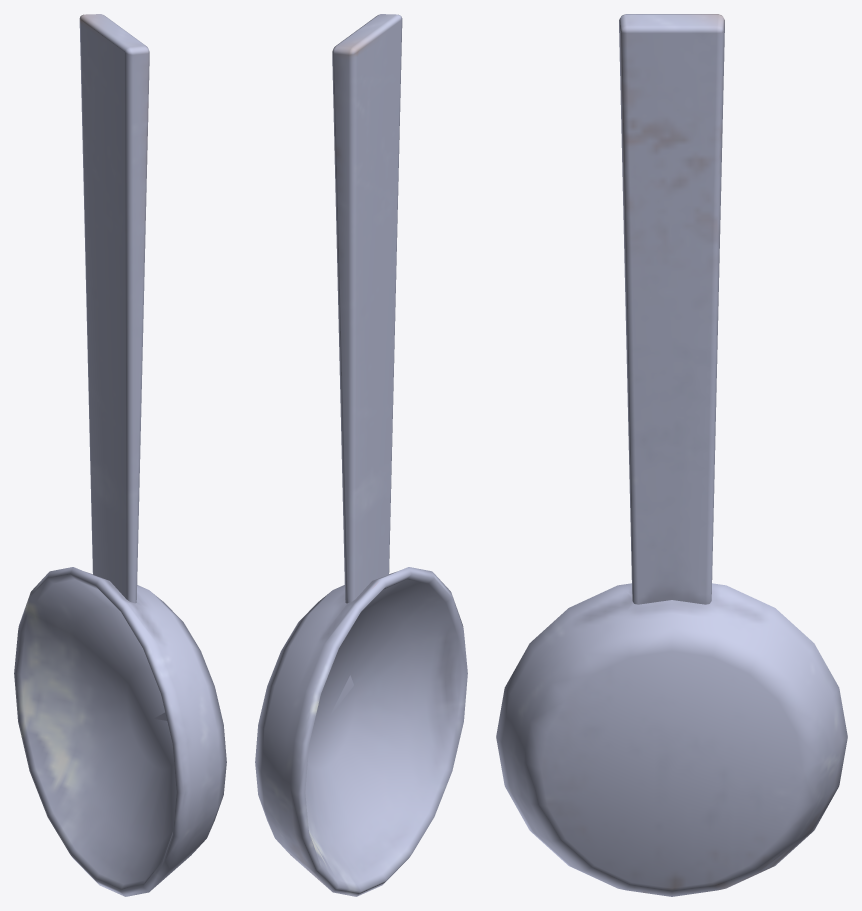
The model's file is SM_Ladel02.fbx.
3 views of the same model, side by side, from view 1: azimuth 30°, elevation 25°; view 2: azimuth 150°, elevation 25°; view 3: azimuth 270°, elevation 25° (orthographic). The views are drawn at different scales.
Visible parts, largest first — view 1: SM_Ladel02_LOD0; view 2: SM_Ladel02_LOD0; view 3: SM_Ladel02_LOD0.
Part boxes in pixels (left/top/right/bottom): SM_Ladel02_LOD0: left=14, top=14, right=226, bottom=896; SM_Ladel02_LOD0: left=255, top=14, right=467, bottom=896; SM_Ladel02_LOD0: left=496, top=14, right=847, bottom=896.
Bounding box in the file's own units: 3.83 × 16.36 × 45.45.
1 material, 1 textured.
